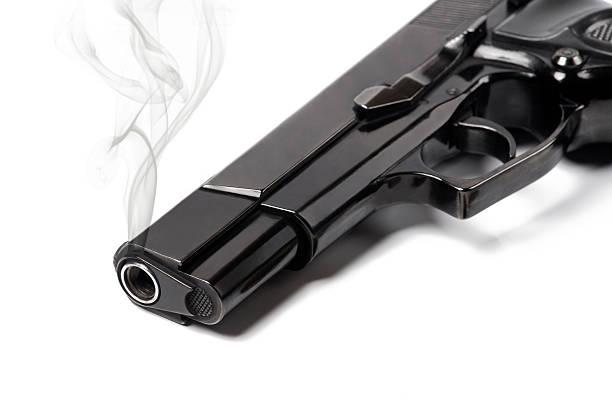weapon: (109, 0, 612, 331)
